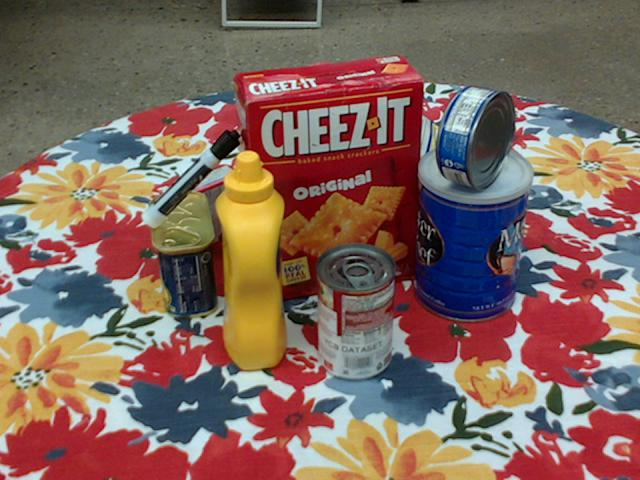cracker_box: (234, 55, 425, 302)
gelatin_box: (159, 165, 244, 258)
large_marker: (141, 129, 241, 227)
master_chef_can: (416, 143, 531, 324)
mug: (303, 122, 388, 220)
mustard_bottle: (216, 151, 285, 370)
potted_meat_can: (149, 191, 217, 318)
sugar_box: (357, 92, 512, 243)
tomato_soup_can: (315, 243, 395, 381)
tuna_fish_can: (438, 86, 515, 189)
